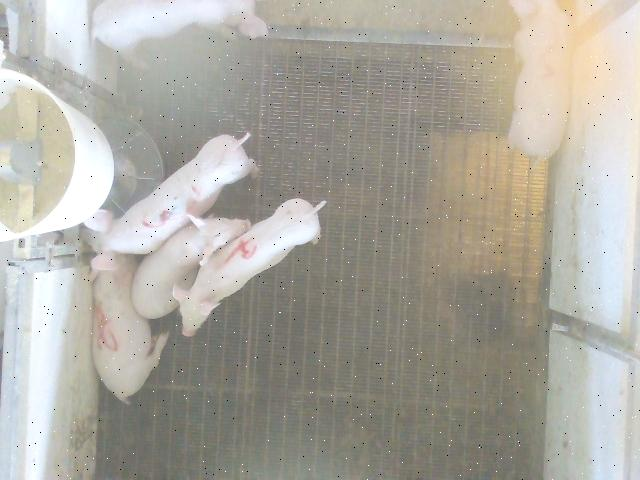pig-1: (91, 1, 266, 55)
pig-2: (509, 2, 572, 159)
pig-3: (82, 134, 255, 271)
pig-4: (174, 199, 326, 336)
pig-5: (92, 256, 169, 404)
